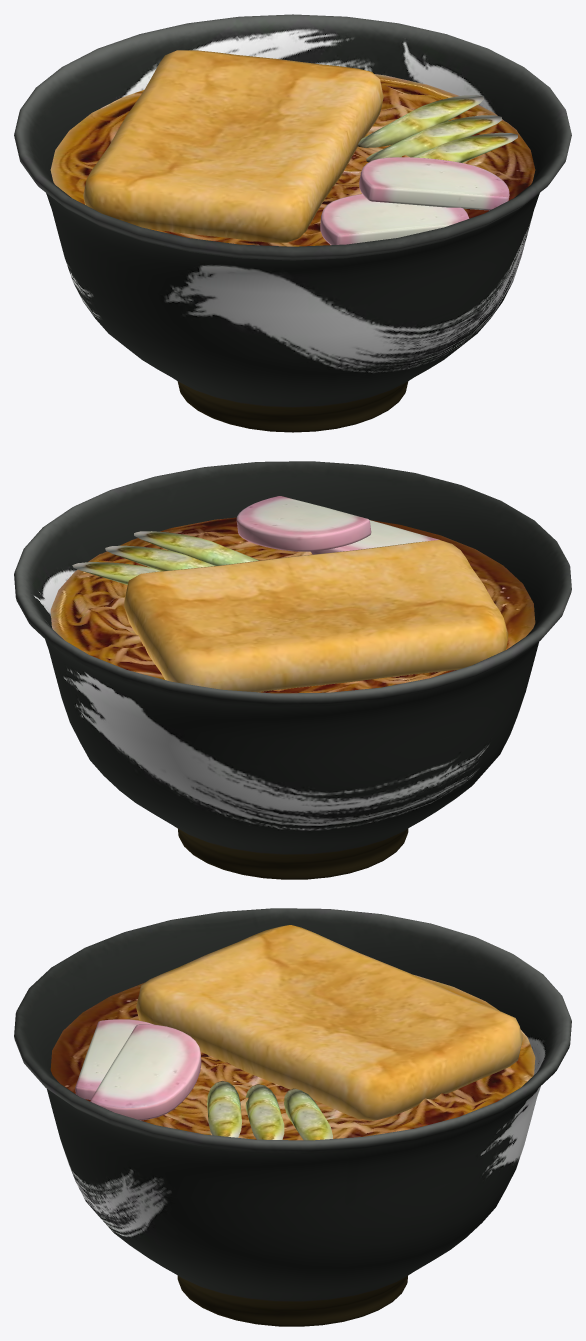
The model's file is kitsunesoba_comp.glb.
3 renders of one model, top to bottom at view 1: azimuth 30°, elevation 25°; view 2: azimuth 150°, elevation 25°; view 3: azimuth 270°, elevation 25°, orthographic.
Parts seen in each view (by area): view 1: KitsuneSoba; view 2: KitsuneSoba; view 3: KitsuneSoba.
Boxes of the visible parts, box(x1,y1,x2,y2) form: KitsuneSoba: box(14, 14, 571, 432); KitsuneSoba: box(14, 461, 571, 879); KitsuneSoba: box(14, 908, 571, 1326).
Size of the model in its own units: 0.177 by 0.0904 by 0.177.
Materials: 2 (2 with a texture image).
